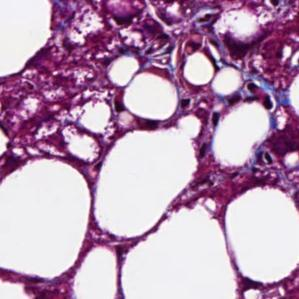inflammation: (138, 24, 204, 71), (225, 78, 276, 113)
